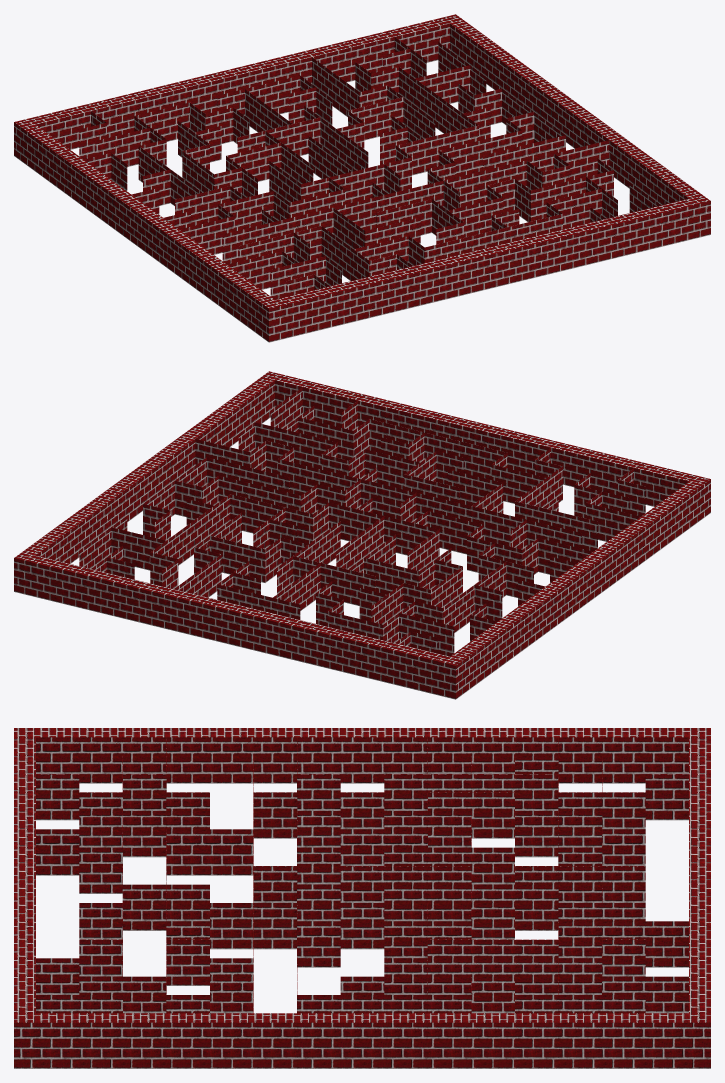
The picture shows the model from 3 angles, top to bottom: view 1: azimuth 30°, elevation 25°; view 2: azimuth 150°, elevation 25°; view 3: azimuth 270°, elevation 25°; orthographic projection. The views are drawn at different scales.
Parts seen in each view (by area): view 1: map; view 2: map; view 3: map.
Boxes of the visible parts, <box> form: map: <box>14,14,710,342</box>; map: <box>14,371,710,699</box>; map: <box>14,728,710,1068</box>.
Bounding box in the file's own units: 431 × 31.53 × 431.
1 material, 1 textured.
